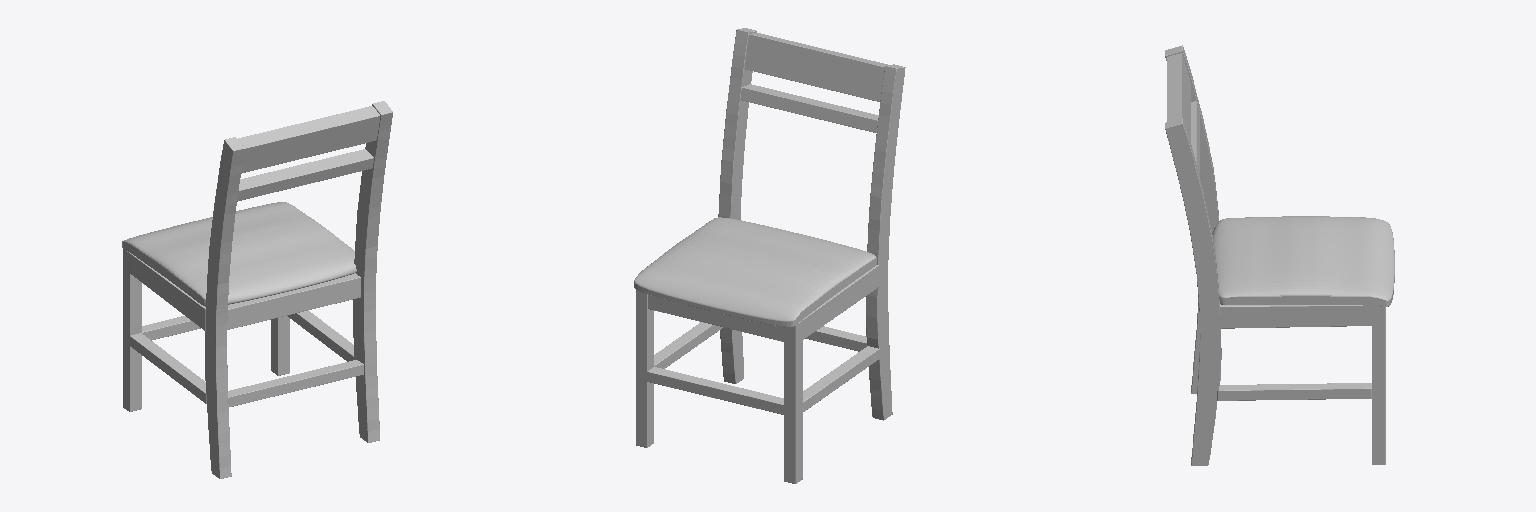
The model's file is cadeira.obj.
The picture shows the model from 3 angles: view 1: azimuth 30°, elevation 25°; view 2: azimuth 150°, elevation 25°; view 3: azimuth 270°, elevation 25°; orthographic projection.
Visible parts, largest first — view 1: chair_frame, chair_leather; view 2: chair_frame, chair_leather; view 3: chair_frame, chair_leather.
Boxes of the visible parts, box(x1,y1,x2,y2) form: chair_frame: box(123, 101, 392, 478); chair_leather: box(122, 202, 356, 306); chair_frame: box(636, 28, 905, 483); chair_leather: box(634, 217, 876, 326); chair_frame: box(1165, 45, 1385, 465); chair_leather: box(1212, 216, 1394, 306).
Bounding box in the file's own units: 433 × 877 × 532.